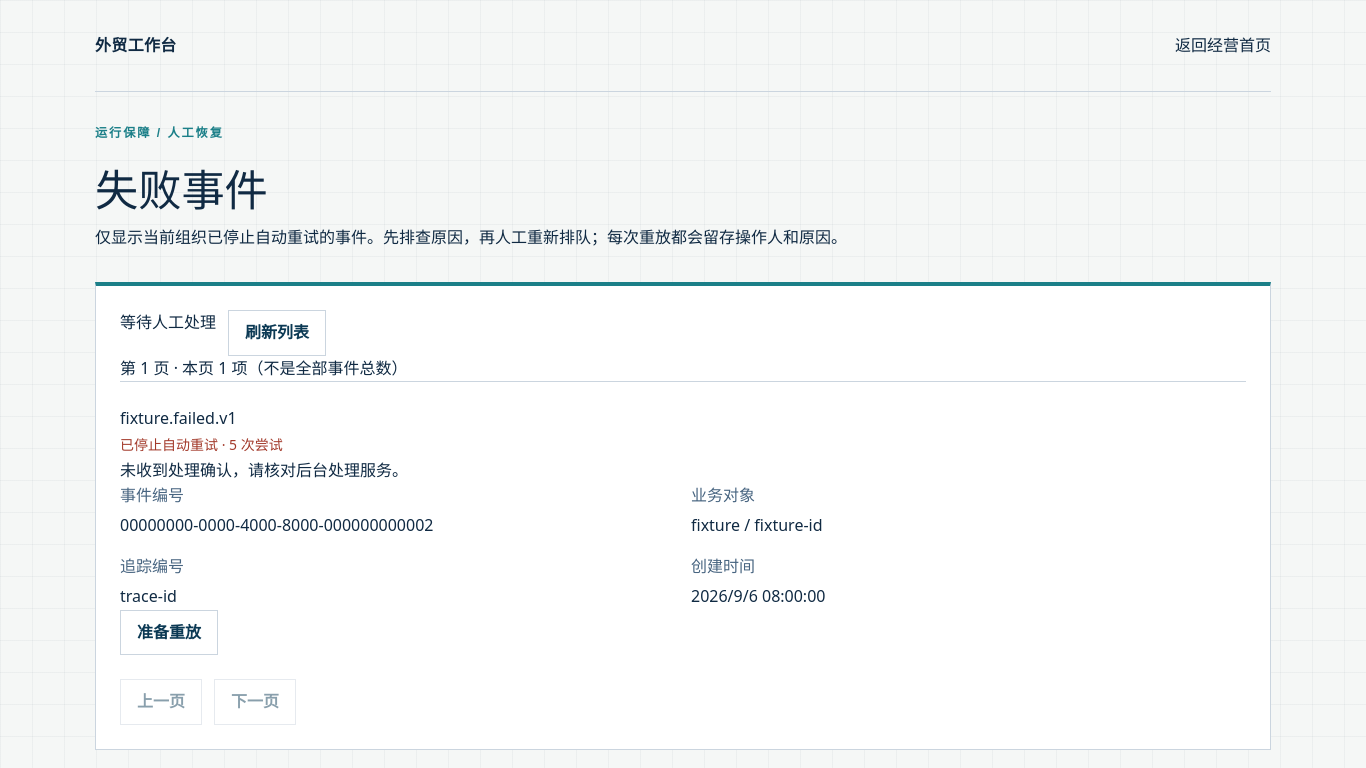
Test: requires reason and confirmation, sends version and reports requeue only
Click the button "准备重放".
click(169, 632)  # box [120, 610, 218, 655]
(page scrolled)
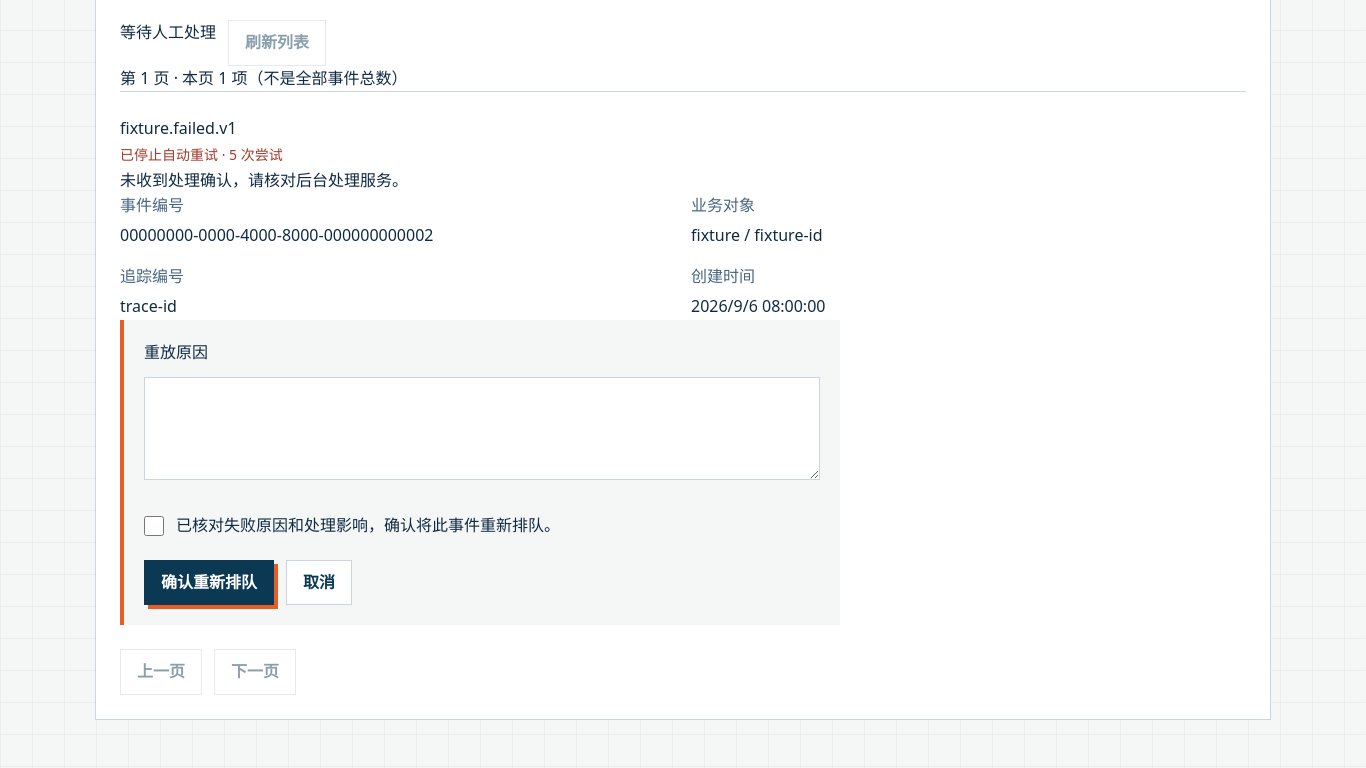
Click the button "确认重新排队".
click(209, 583)  # box [144, 560, 274, 606]
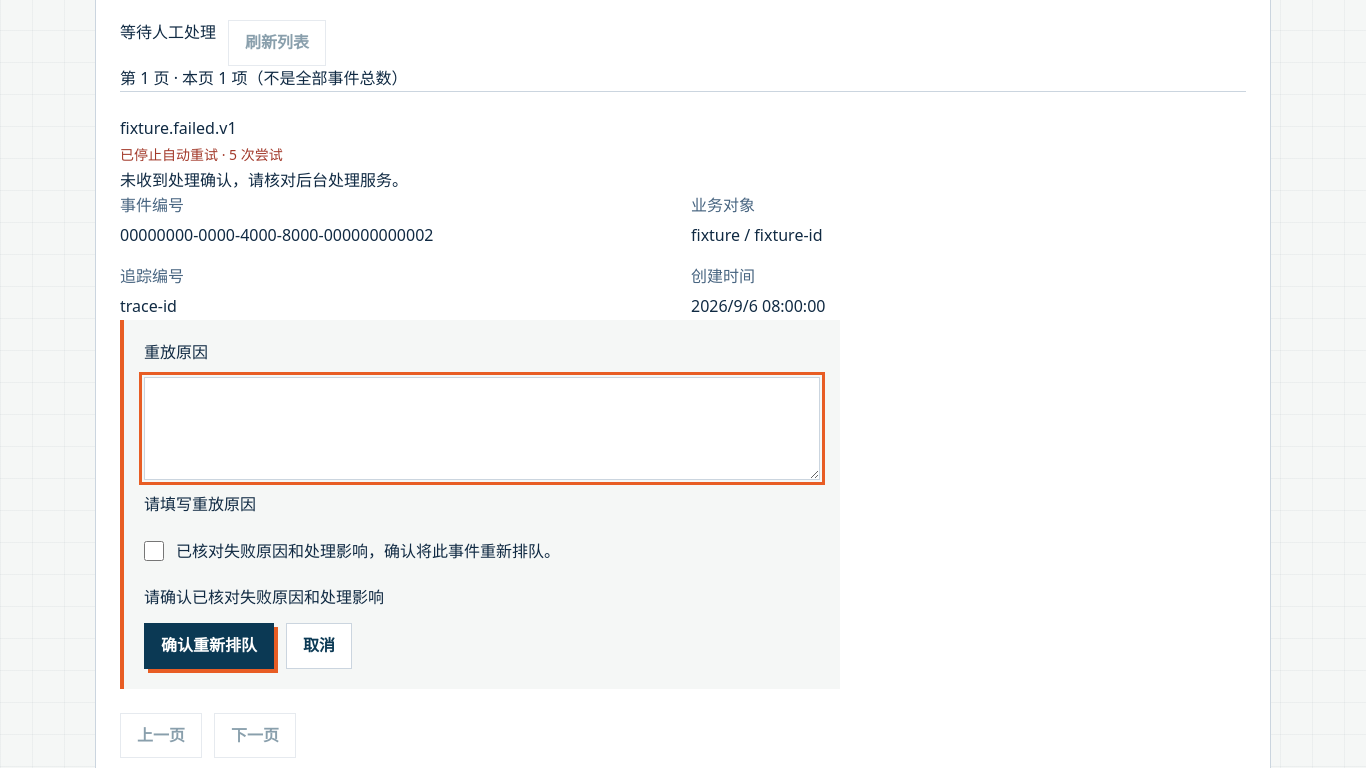
Now the text "请填写重放原因" is shown, box [144, 493, 256, 515]
Type "  依赖服务已恢复  " into the text box labelled "重放原因".
click(482, 428); type("  依赖服务已恢复  ")  # box [144, 377, 820, 480]
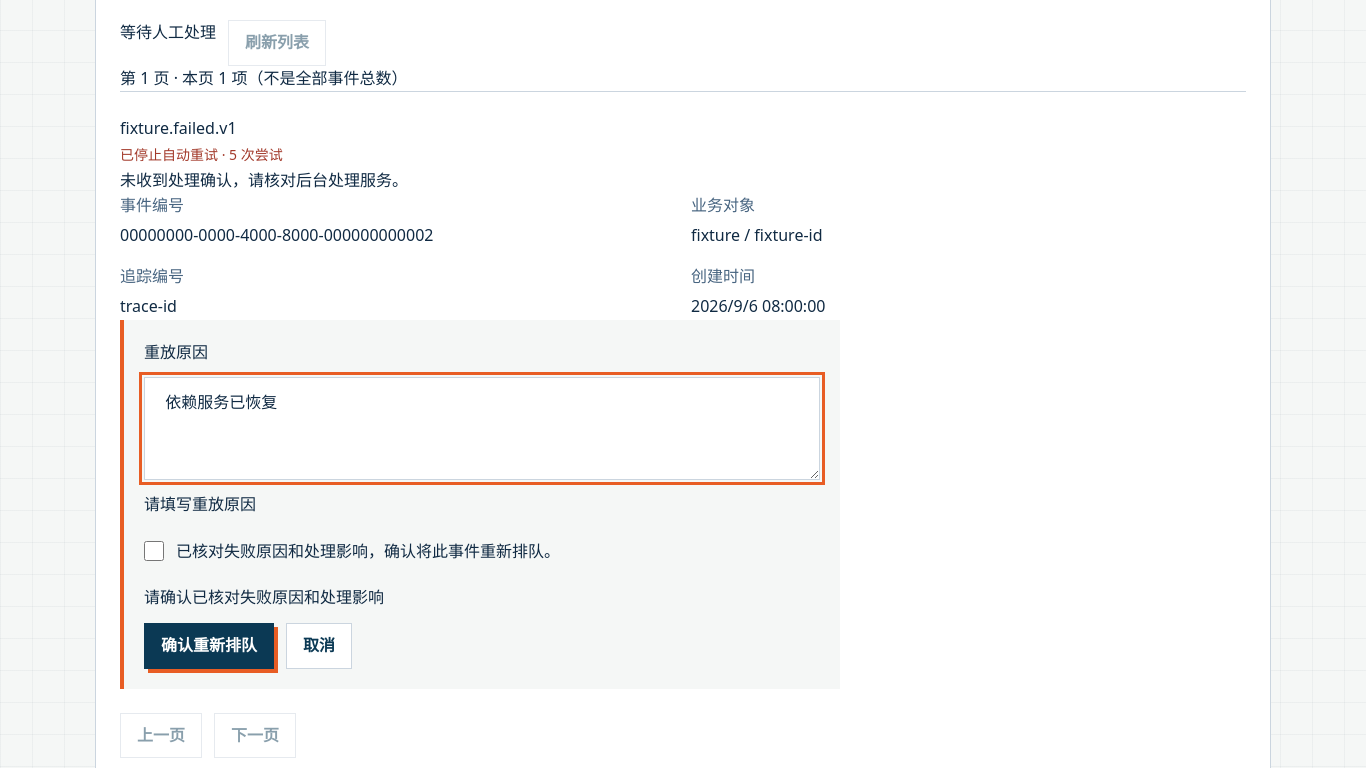
Click the checkbox.
click(154, 552)  # box [144, 542, 164, 562]
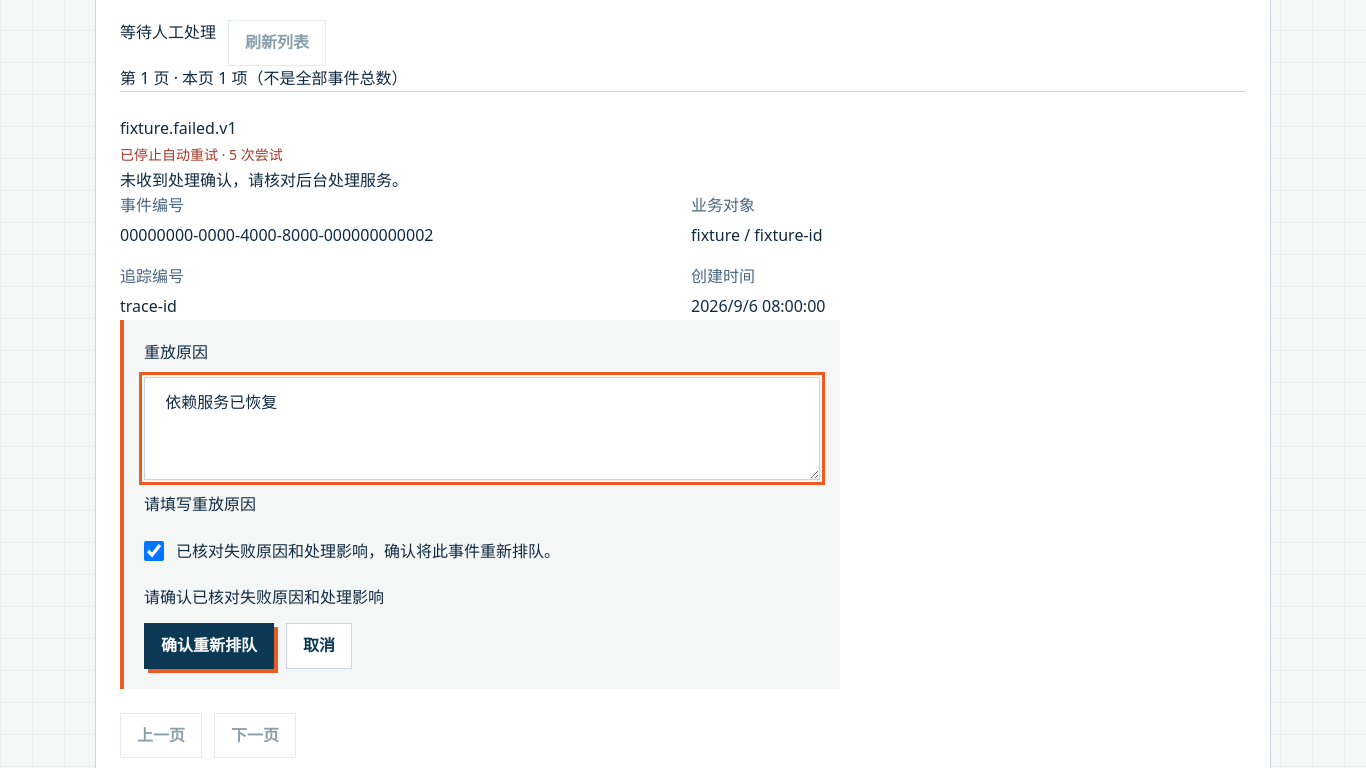
Click the button "确认重新排队".
click(209, 646)  # box [144, 623, 274, 669]
(page scrolled)
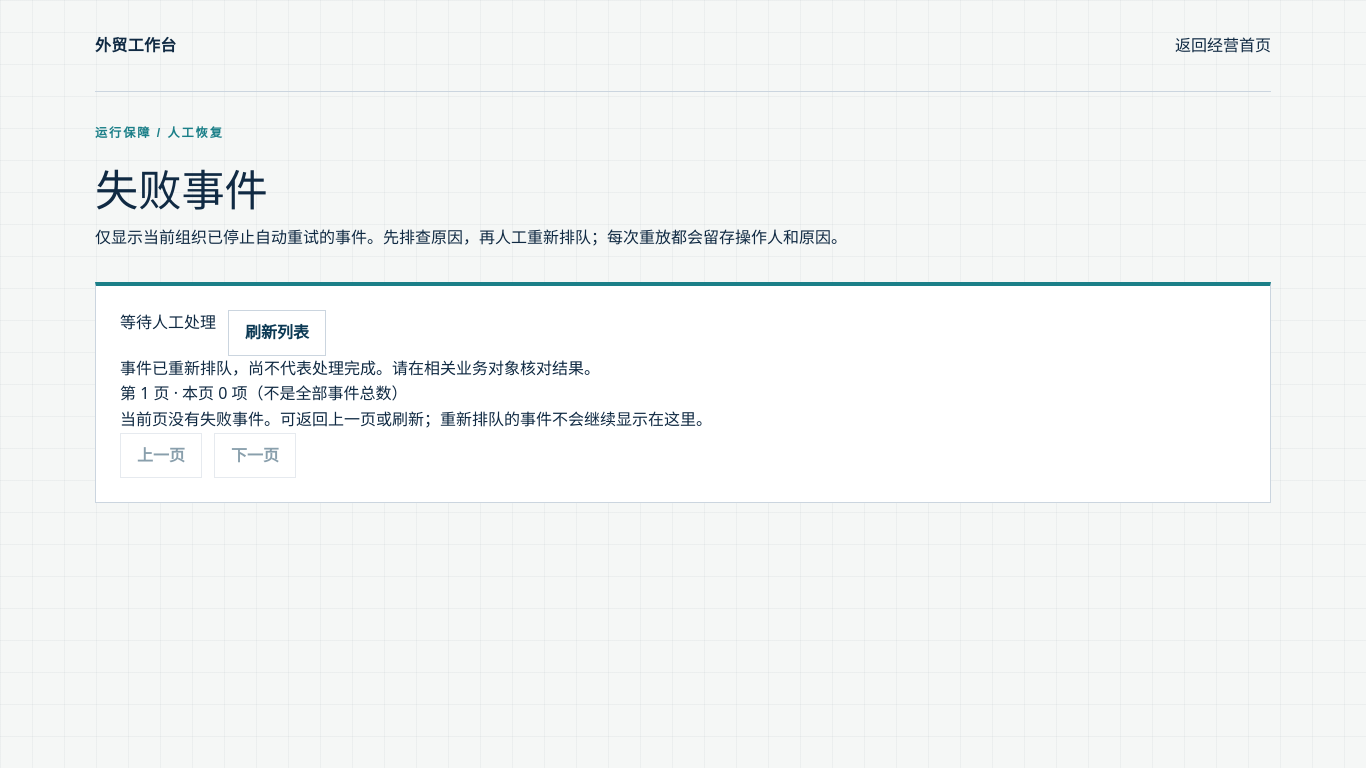
Now the text "事件已重新排队，尚不代表处理完成。请在相关业务对象核对结果。" is shown, box [120, 357, 600, 379]
Now the heading "fixture.failed.v1" is gone
